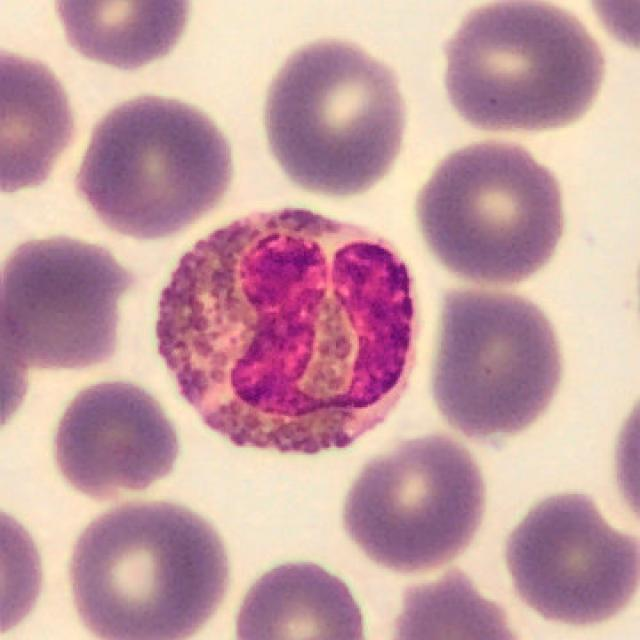Eosinofilo: (156, 210, 421, 457)
